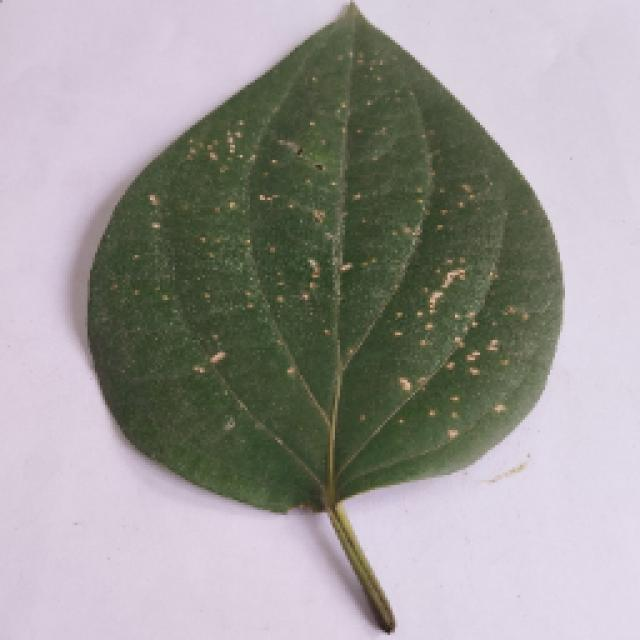pollu-disease: (20, 25, 570, 630)
